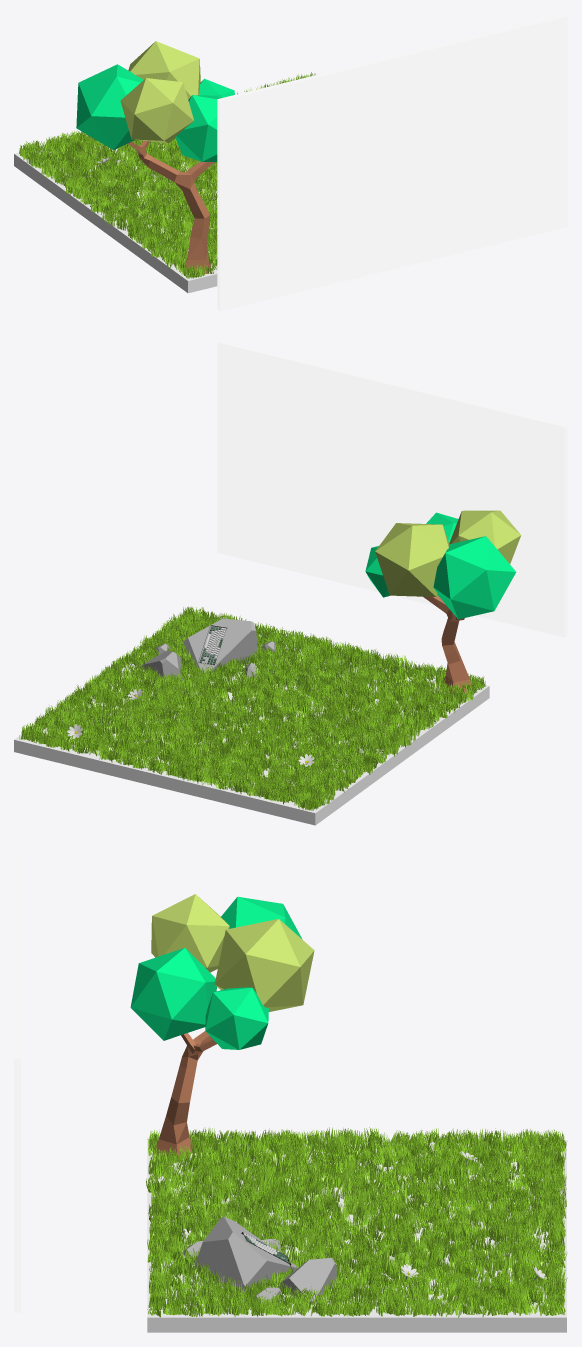
File: untitledv2.glb
The picture shows the model from 3 angles, top to bottom: view 1: azimuth 30°, elevation 25°; view 2: azimuth 150°, elevation 25°; view 3: azimuth 270°, elevation 25°; orthographic projection. The views are drawn at different scales.
Visible parts, largest first — view 1: Screen, Stage, Icosphere.004, Icosphere.005, Trunk, Icosphere.003, Icosphere.001, Icosphere; view 2: Screen, Stage, Icosphere.004, Icosphere.003, Big Rock, Icosphere.005, Trunk, Medium Rock, Cube.011; view 3: Stage, Icosphere.003, Icosphere.001, Big Rock, Icosphere.005, Icosphere, Screen, Trunk, Icosphere.004, Medium Rock.
Part boxes in pixels (box(x1,y1,x2,y2)): Screen: box(217, 14, 567, 311); Stage: box(14, 136, 217, 293); Icosphere.004: box(76, 64, 143, 149); Icosphere.005: box(120, 78, 193, 143); Trunk: box(128, 141, 214, 273); Icosphere.003: box(128, 41, 200, 99); Icosphere.001: box(175, 95, 221, 162); Icosphere: box(199, 78, 234, 97); Screen: box(217, 340, 567, 637); Stage: box(14, 622, 489, 825); Icosphere.004: box(433, 536, 516, 619); Icosphere.003: box(375, 523, 449, 596); Big Rock: box(183, 618, 257, 673); Icosphere.005: box(449, 510, 521, 563); Trunk: box(423, 595, 471, 693); Medium Rock: box(141, 650, 182, 680); Cube.011: box(198, 625, 227, 665); Stage: box(147, 1140, 566, 1332); Icosphere.003: box(214, 919, 314, 1011); Icosphere.001: box(130, 948, 217, 1040); Big Rock: box(194, 1217, 296, 1294); Icosphere.005: box(151, 894, 229, 972); Icosphere: box(205, 987, 268, 1049); Screen: box(14, 854, 20, 1312); Trunk: box(153, 1031, 216, 1160); Icosphere.004: box(221, 896, 302, 939); Medium Rock: box(279, 1257, 336, 1304).
Size of what is drawn, in the model's own units: 7.69 by 4.53 by 7.92.
